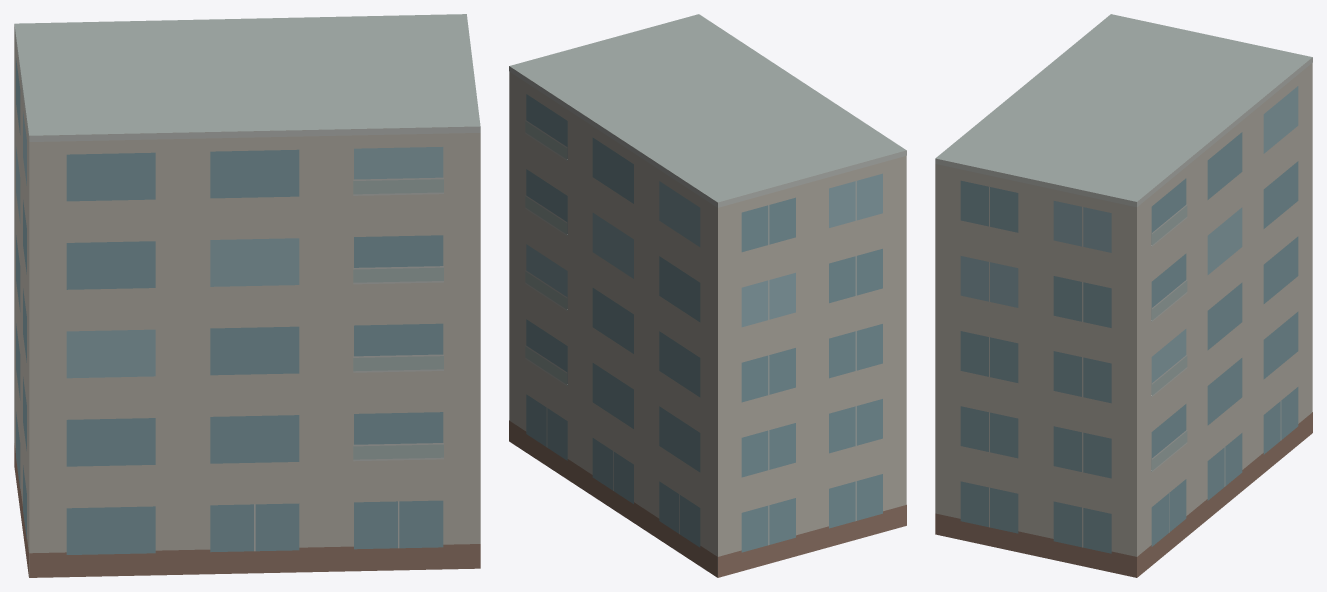
File: survey-upis-32893340.glb
3 views of the same model, side by side, from view 1: azimuth 30°, elevation 25°; view 2: azimuth 150°, elevation 25°; view 3: azimuth 270°, elevation 25° (orthographic). The views are drawn at different scales.
Visible parts, largest first — view 1: survey-upis-32893340.tmp; view 2: survey-upis-32893340.tmp; view 3: survey-upis-32893340.tmp.
Boxes of the visible parts, x1,y1,x2,y2 form: survey-upis-32893340.tmp: [14, 14, 480, 577]; survey-upis-32893340.tmp: [509, 14, 906, 577]; survey-upis-32893340.tmp: [935, 14, 1312, 577].
Size of the model in its own units: 18.13 by 16.9 by 15.39.
